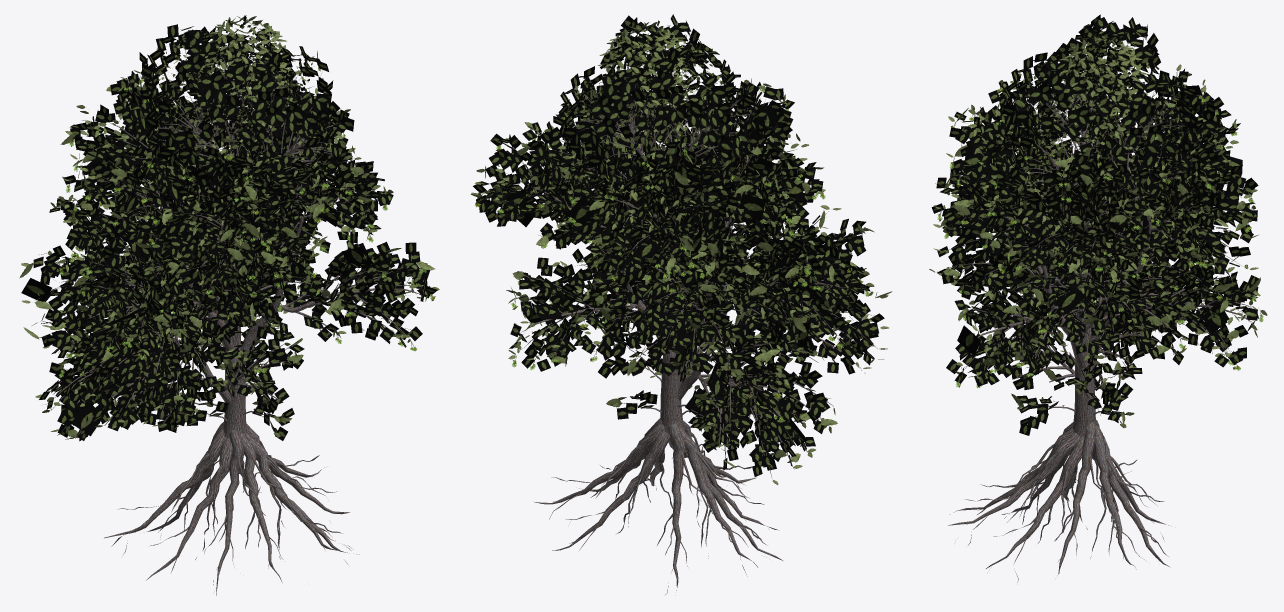
The picture shows the model from 3 angles, left to right: view 1: azimuth 30°, elevation 25°; view 2: azimuth 150°, elevation 25°; view 3: azimuth 270°, elevation 25°; orthographic projection.
Size of the model in its own units: 432 by 628 by 369.
Materials: 6 (6 with a texture image).
